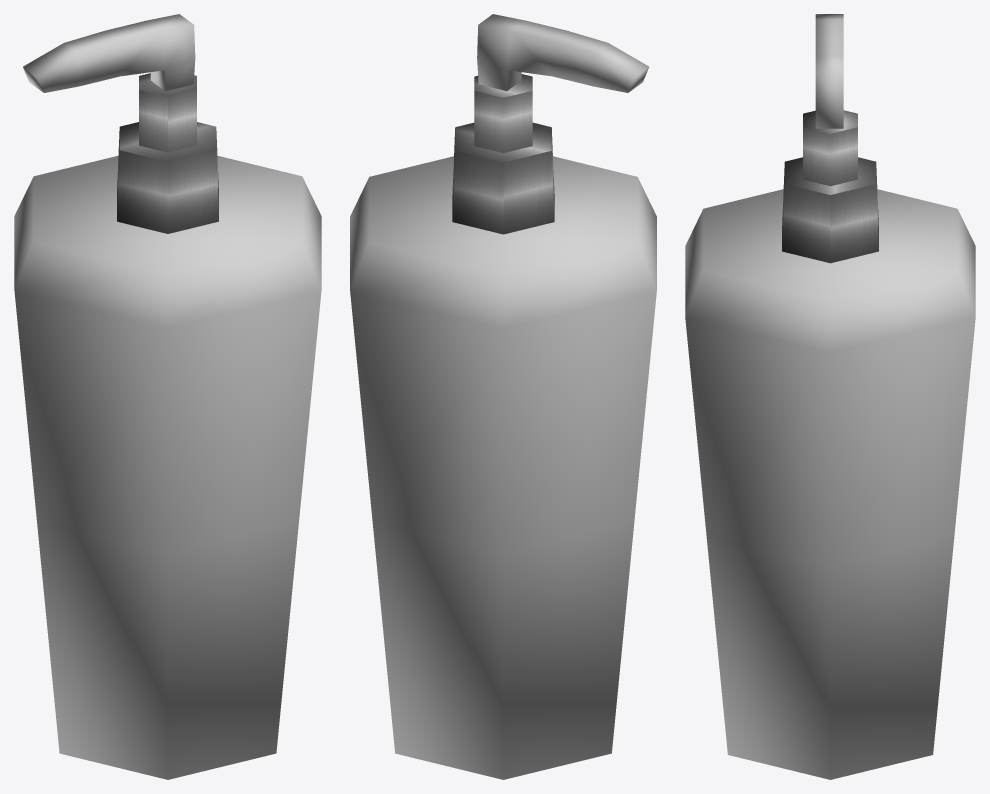
Rendered from Soap_Dispenser_B.FBX.
3 renders of one model, left to right at view 1: azimuth 30°, elevation 25°; view 2: azimuth 150°, elevation 25°; view 3: azimuth 270°, elevation 25°, orthographic. The views are drawn at different scales.
Parts seen in each view (by area): view 1: Soap_Dispenser; view 2: Soap_Dispenser; view 3: Soap_Dispenser.
Boxes of the visible parts, x1,y1,x2,y2 form: Soap_Dispenser: (14,14,321,779); Soap_Dispenser: (350,14,656,779); Soap_Dispenser: (685,14,975,779).
Bounding box in the file's own units: 18.48 × 40.55 × 16.01.
